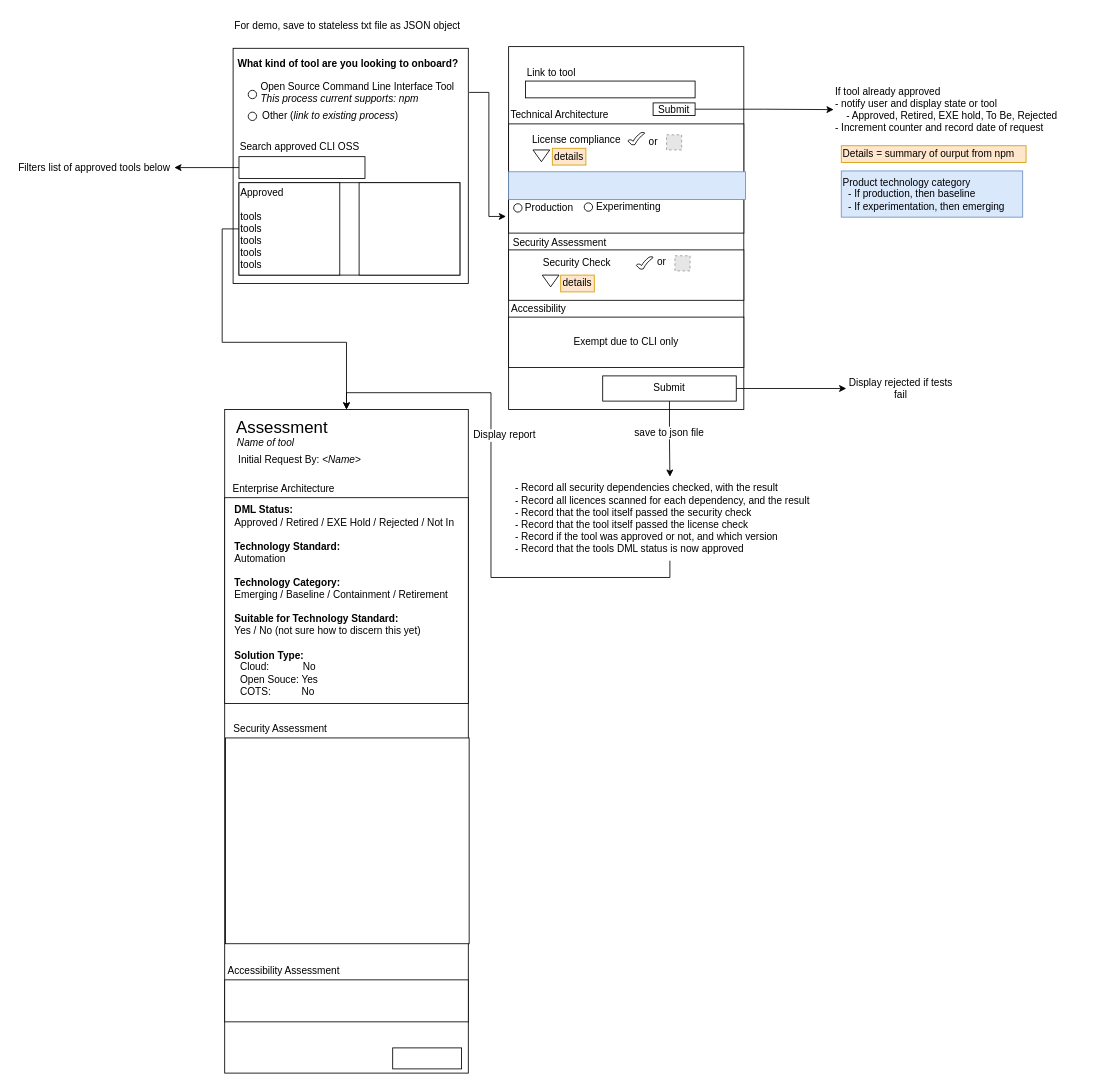
This 1105x1088 diagram has some shape labels left out. Grey dashed boxes stand in for pictures. The shapes that lost their labels are listed below. From the top down, each one's centre as x and y in pixels, then its label:
At point 627,185: "Is this for a production application, or for experimentation?".
At point 409,228: "Rejected tools tools tools tools tools".
At point 346,1000: "Explain why exempt".
At point 427,1058: "Home".
